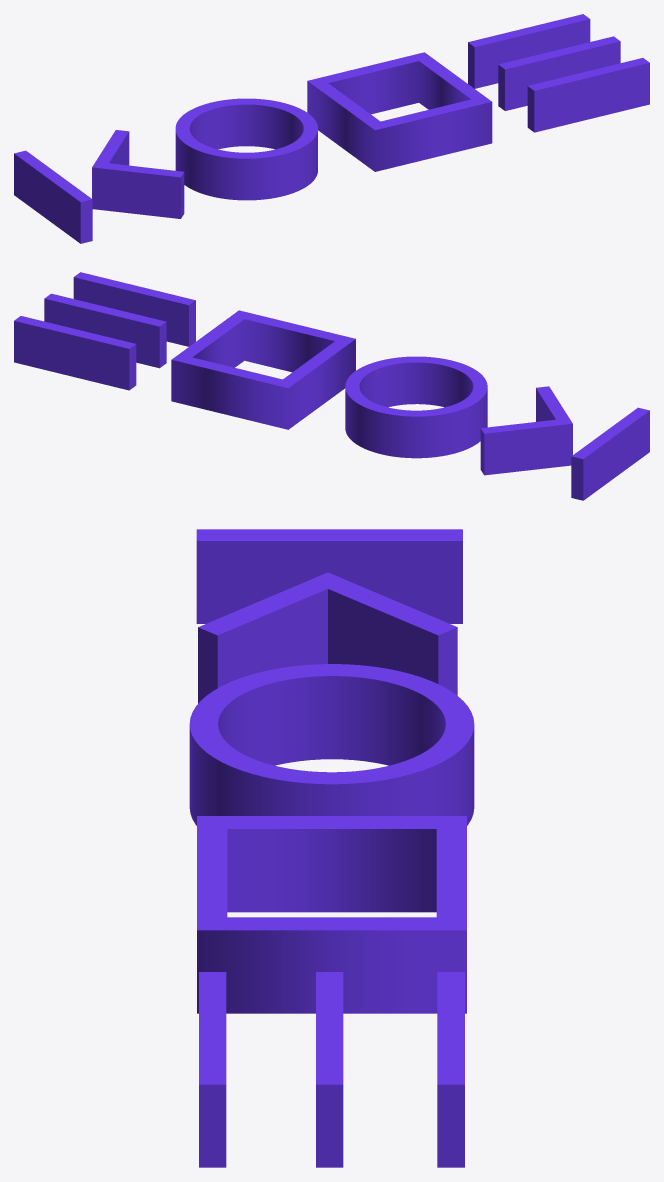
The model's file is kode.obj.
3 renders of one model, top to bottom at view 1: azimuth 30°, elevation 25°; view 2: azimuth 150°, elevation 25°; view 3: azimuth 270°, elevation 25°, orthographic. The views are drawn at different scales.
Parts seen in each view (by area): view 1: 002_Tube_1, 006_Tube, 005_Box_2, 001_Box_6_&_Box_5, 003_Box, 004_Box_1, 000_Box_3; view 2: 002_Tube_1, 006_Tube, 003_Box, 001_Box_6_&_Box_5, 004_Box_1, 005_Box_2, 000_Box_3; view 3: 002_Tube_1, 006_Tube, 001_Box_6_&_Box_5, 000_Box_3, 003_Box, 004_Box_1, 005_Box_2.
Part boxes in pixels (x1,y1,x2,y2): 002_Tube_1: (307,52,492,171); 006_Tube: (175,98,317,200); 005_Box_2: (527,58,649,132); 001_Box_6_&_Box_5: (92,130,184,218); 003_Box: (468,14,590,88); 004_Box_1: (498,36,620,110); 000_Box_3: (14,150,92,243); 002_Tube_1: (171,310,355,429); 006_Tube: (345,356,487,458); 003_Box: (14,316,136,390); 001_Box_6_&_Box_5: (480,386,572,475); 004_Box_1: (44,293,166,368); 005_Box_2: (73,272,195,346); 000_Box_3: (571,407,649,500); 002_Tube_1: (197,816,466,1013); 006_Tube: (189,664,474,825); 001_Box_6_&_Box_5: (198,572,457,703); 000_Box_3: (196,529,462,623); 003_Box: (437,972,464,1167); 004_Box_1: (316,972,343,1167); 005_Box_2: (199,972,226,1167).
Bounding box in the file's own units: 143 × 10 × 31.
